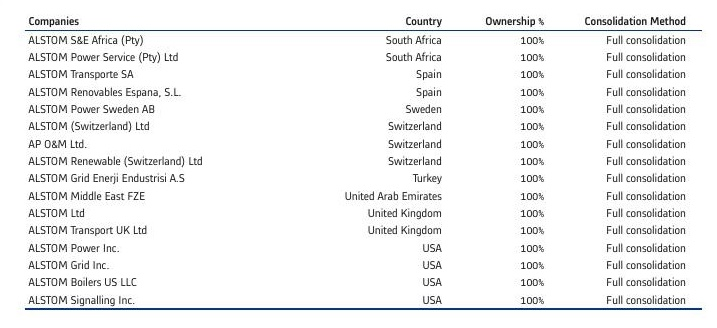table: (0, 0, 717, 328)
